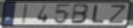4: (36, 4, 50, 25)
5: (54, 3, 73, 25)
B: (70, 3, 91, 24)
I: (21, 3, 28, 24)
L: (91, 4, 106, 24)
Z: (107, 4, 128, 24)
